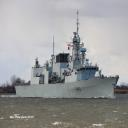Fragata: (16, 10, 121, 100)
